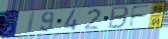2: (83, 8, 102, 31)
4: (63, 8, 79, 32)
9: (38, 11, 56, 33)
B: (107, 5, 131, 30)
F: (128, 4, 152, 29)
I: (25, 10, 37, 36)
